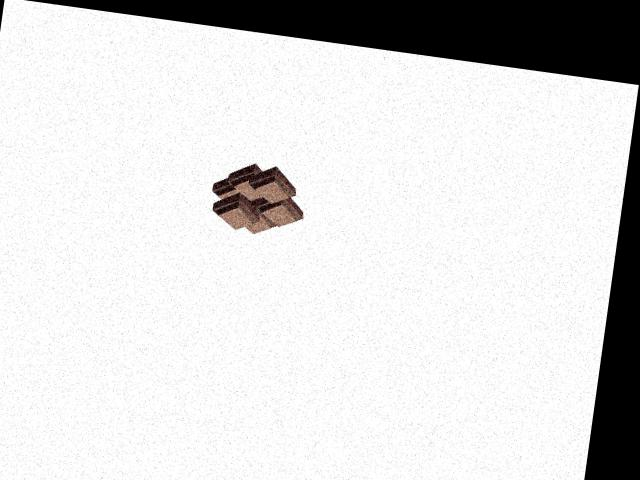chocolate: (204, 160, 308, 242)
